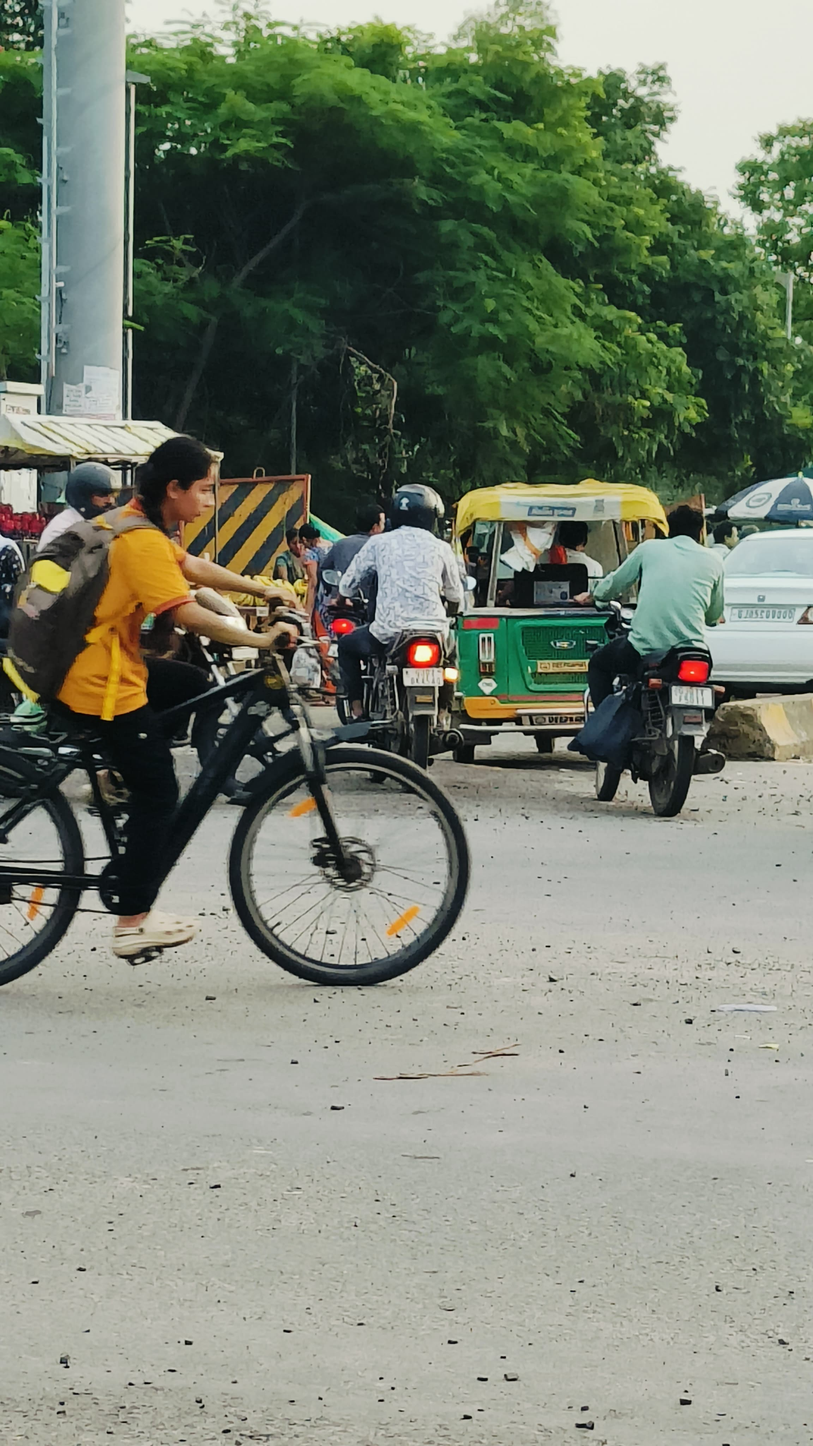BikeWithRider: (0, 421, 502, 1009), (558, 491, 737, 826), (310, 475, 476, 782)
Helmet: (55, 455, 126, 528), (384, 478, 449, 539)
NoHelmet: (130, 429, 231, 540), (661, 497, 711, 551)
